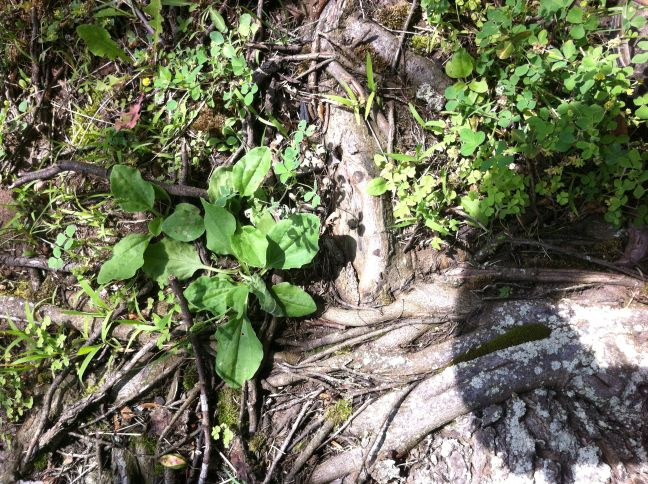weed1: (189, 190, 322, 388), (96, 163, 204, 290)
